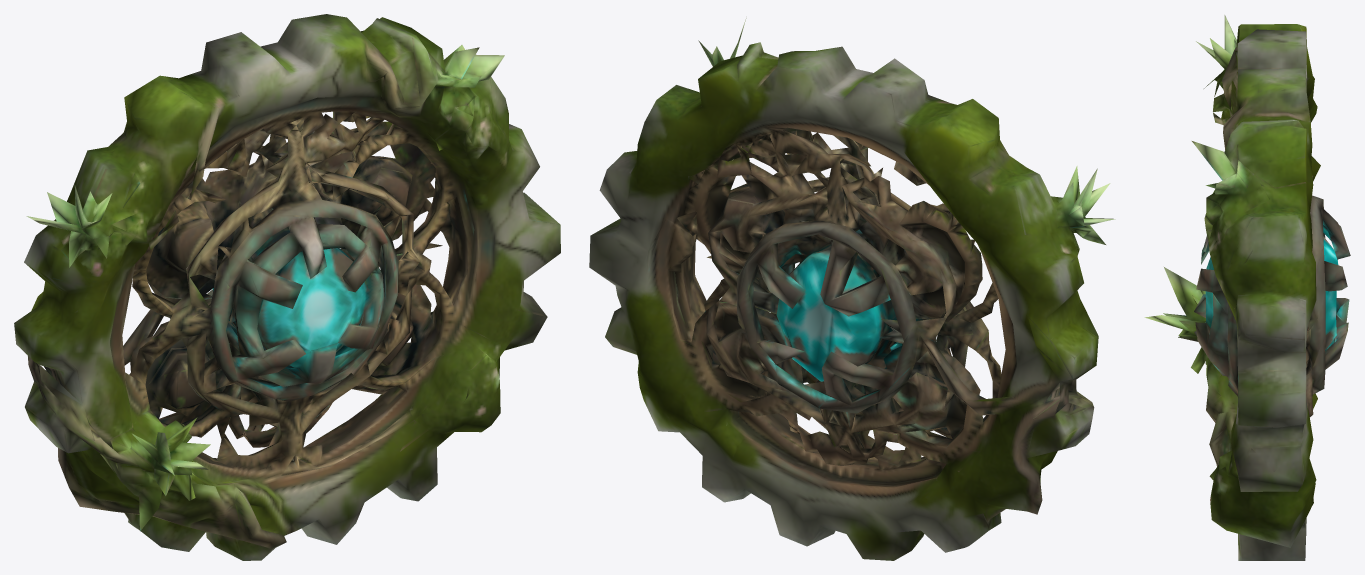
Rendered from crystal-gear-nature.glb.
3 renders of one model, left to right at view 1: azimuth 30°, elevation 25°; view 2: azimuth 150°, elevation 25°; view 3: azimuth 270°, elevation 25°, orthographic. The views are drawn at different scales.
Parts seen in each view (by area): view 1: Mesh1.0; view 2: Mesh1.0; view 3: Mesh1.0.
Boxes of the visible parts, x1,y1,x2,y2 form: Mesh1.0: (14, 14, 560, 560); Mesh1.0: (589, 18, 1115, 560); Mesh1.0: (1144, 15, 1350, 560).
Bounding box in the file's own units: 1.91 × 1.73 × 0.6859.
1 material, 1 textured.
